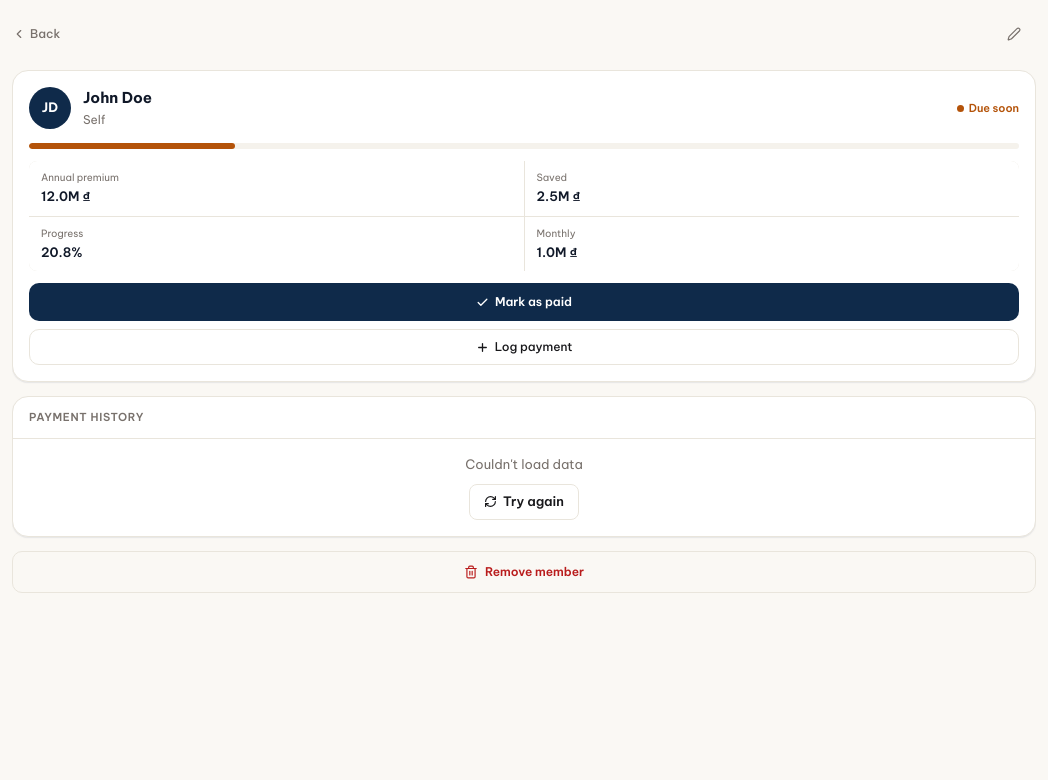
Test case: DesktopInsuranceDetail — history load error vs empty › retry re-fetches and renders the history on success
Check: the message "Couldn't load data Try again" is shown, box [465,456,583,520]
Click the button with test id "load-error-retry" at [524, 502], box [469,484,579,520]
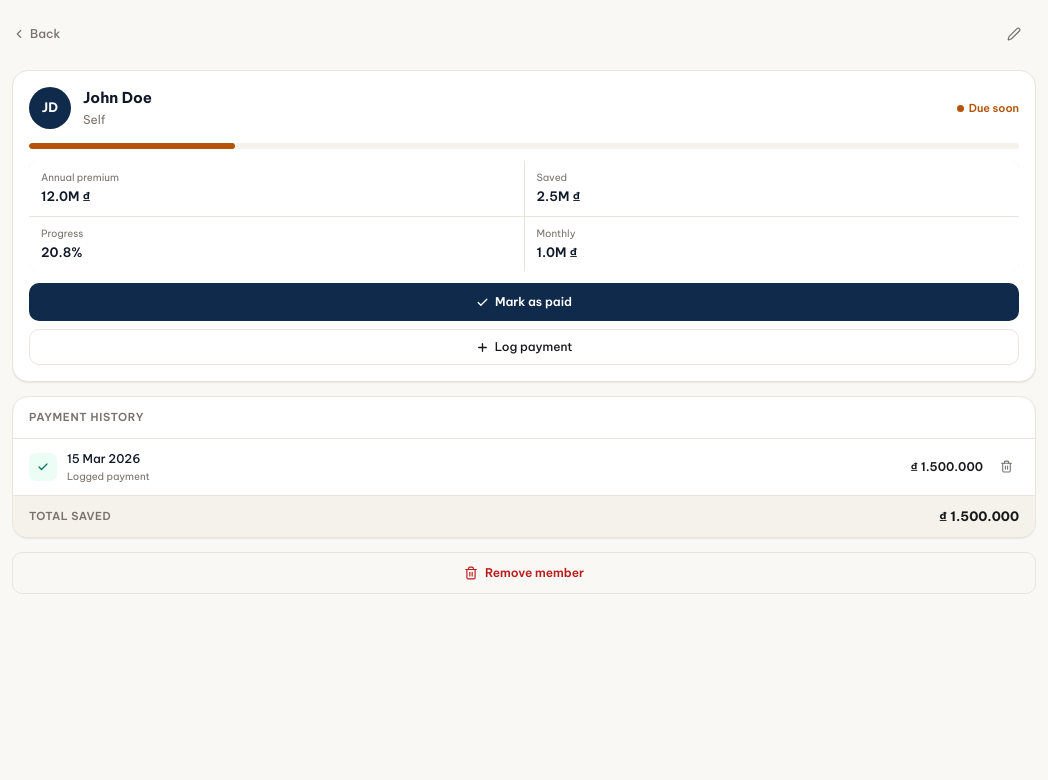
Check: the text "Logged payment" is shown, box [67,470,150,482]
Check: the message with test id "load-error" is gone
